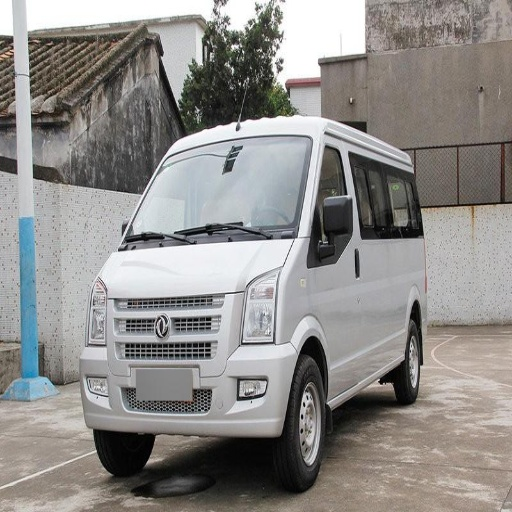front_bumper: (80, 291, 298, 437)
front_glass: (121, 138, 310, 248)
front_left_door: (312, 140, 381, 397)
trunk: (403, 245, 431, 303)
